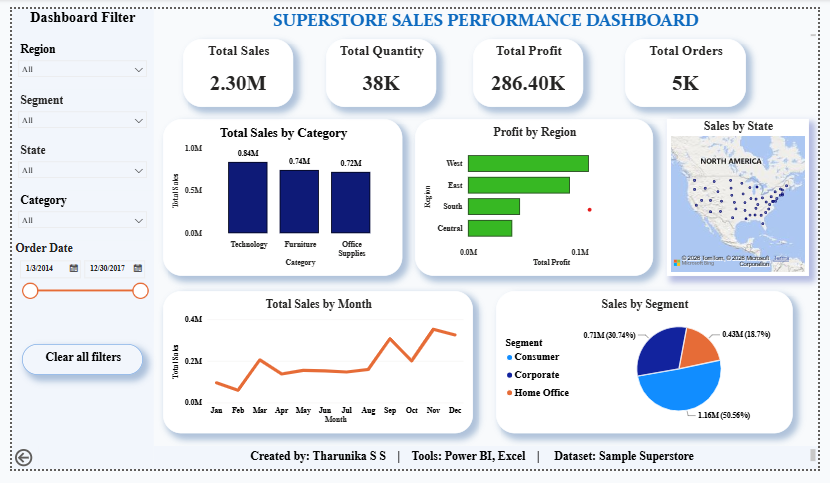

The page's visual inventory and layout, read from the dashboard file:
{"tool":"powerbi","page":{"name":"Page 1","canvas":[1280,730],"ordinal":0},"visuals":[{"type":"textbox","title":"        Dashboard Filter","box":[0,0,224.6,770.8],"z":0},{"type":"textbox","title":"SUPERSTORE SALES PERFORMANCE DASHBOARD","box":[223.1,0,1056.9,47.7],"z":1000},{"type":"clusteredColumnChart","title":"Total Sales by Category","fields":{"Category":["Sample - Superstore.Category"],"Y":["Sample - Superstore.Total Sales"]},"box":[240,175.4,380,249.2],"z":2000},{"type":"barChart","title":"Profit by Region","fields":{"Category":["Sample - Superstore.Region"],"Y":["Sample - Superstore.Total Profit"]},"box":[640,175.4,378.5,249.2],"z":3000},{"type":"pieChart","title":"Sales by Segment","fields":{"Category":["Sample - Superstore.Segment"],"Y":["Sample - Superstore.Total Sales"]},"box":[767.7,447.7,470.8,226.2],"z":4000},{"type":"cardVisual","title":"Total Profit","fields":{"Data":["Sample - Superstore.Total Profit"]},"box":[732.3,47.7,175.4,107.7],"z":5000},{"type":"slicer","fields":{"Values":["Sample - Superstore.Category"]},"box":[0,288,224,80],"z":7000},{"type":"lineChart","fields":{"Y":["Sample - Superstore.Total Sales"],"Category":["Sample - Superstore.Month"]},"box":[240,447.7,492.3,226.2],"z":8000},{"type":"slicer","fields":{"Values":["Sample - Superstore.Region"]},"box":[0,48,224,80],"z":9000},{"type":"slicer","fields":{"Values":["Sample - Superstore.Segment"]},"box":[0,128,224,80],"z":10000},{"type":"slicer","fields":{"Values":["Sample - Superstore.State"]},"box":[0,208,224,80],"z":11000},{"type":"slicer","title":"Order Date","fields":{"Values":["Sample - Superstore.Order Date"]},"box":[0,367.7,224.6,127.7],"z":12000},{"type":"actionButton","title":"Clear all filters","box":[15.4,532.3,192.3,49.2],"z":13000},{"type":"cardVisual","title":"Total Orders","fields":{"Data":["Sample - Superstore.Total Orders"]},"box":[972.3,47.7,192.3,107.7],"z":14000},{"type":"cardVisual","title":"Total Quantity","fields":{"Data":["Sample - Superstore.TOTAL QUANTITY"]},"box":[498.5,47.7,175.4,107.7],"z":15000},{"type":"cardVisual","title":"Total Sales","fields":{"Data":["Sample - Superstore.Total Sales"]},"box":[270.8,47.7,175.4,107.7],"z":16000},{"type":"map","title":"Sales by State","fields":{"Category":["Sample - Superstore.State"]},"box":[1040,175.4,224.6,249.2],"z":17000},{"type":"actionButton","box":[0,693.8,41.5,36.9],"z":17500},{"type":"textbox","box":[224.6,693.8,1055.4,36.9],"z":17501}]}

Visuals, with their boxes in screenshot pixels (x1, y1, x2, y2), scaled from the page's 1280x730 canvas onto the 830x483 screenshot:
"        Dashboard Filter" textbox: [left=0, top=0, right=146, bottom=482]
"SUPERSTORE SALES PERFORMANCE DASHBOARD" textbox: [left=145, top=0, right=829, bottom=32]
"Total Sales by Category" clusteredColumnChart: [left=156, top=116, right=402, bottom=281]
"Profit by Region" barChart: [left=415, top=116, right=660, bottom=281]
"Sales by Segment" pieChart: [left=498, top=296, right=803, bottom=446]
"Total Profit" cardVisual: [left=475, top=32, right=589, bottom=103]
slicer - Sample - Superstore.Category: [left=0, top=191, right=145, bottom=243]
lineChart - Sample - Superstore.Total Sales x Sample - Superstore.Month: [left=156, top=296, right=475, bottom=446]
slicer - Sample - Superstore.Region: [left=0, top=32, right=145, bottom=85]
slicer - Sample - Superstore.Segment: [left=0, top=85, right=145, bottom=138]
slicer - Sample - Superstore.State: [left=0, top=138, right=145, bottom=191]
"Order Date" slicer: [left=0, top=243, right=146, bottom=328]
"Clear all filters" actionButton: [left=10, top=352, right=135, bottom=385]
"Total Orders" cardVisual: [left=630, top=32, right=755, bottom=103]
"Total Quantity" cardVisual: [left=323, top=32, right=437, bottom=103]
"Total Sales" cardVisual: [left=176, top=32, right=289, bottom=103]
"Sales by State" map: [left=674, top=116, right=820, bottom=281]
actionButton: [left=0, top=459, right=27, bottom=482]
textbox: [left=146, top=459, right=829, bottom=482]
